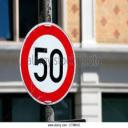speed_limit_50: (18, 22, 76, 104)
